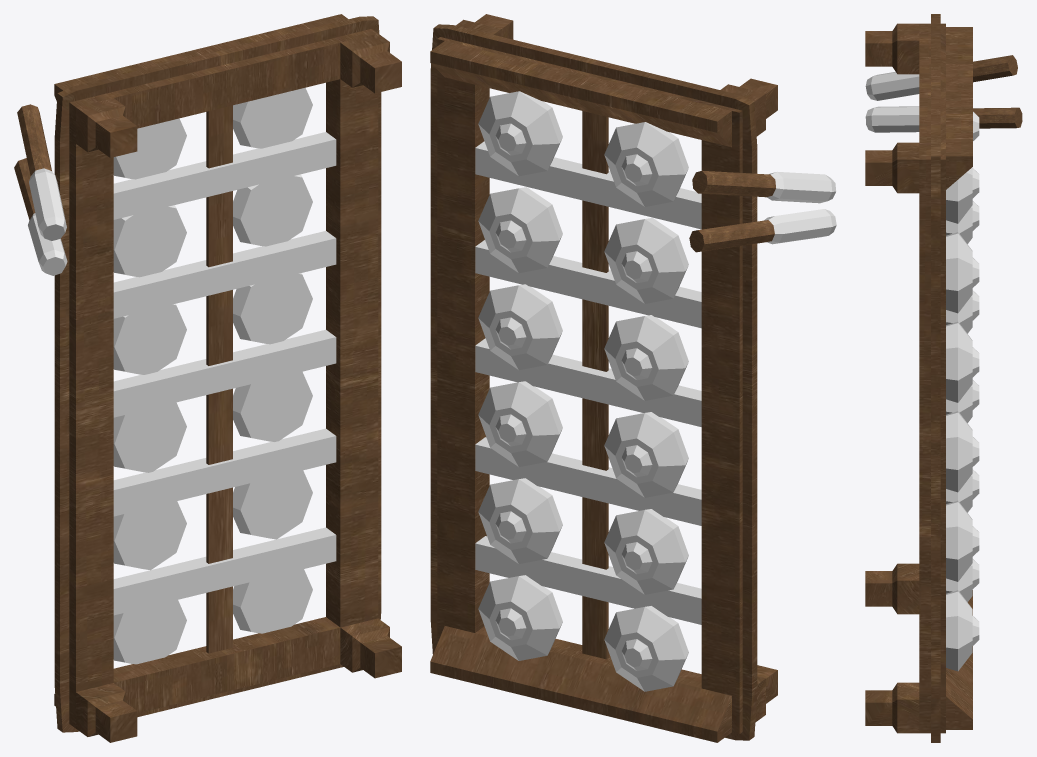
Rendered from Bonang.dae.
3 renders of one model, left to right at view 1: azimuth 30°, elevation 25°; view 2: azimuth 150°, elevation 25°; view 3: azimuth 270°, elevation 25°, orthographic. The views are drawn at different scales.
Parts seen in each view (by area): view 1: Cylinder.002; view 2: Cylinder.002; view 3: Cylinder.002.
Part boxes in pixels (left/top/right/bottom): Cylinder.002: left=14, top=14, right=401, bottom=742; Cylinder.002: left=430, top=14, right=836, bottom=742; Cylinder.002: left=865, top=14, right=1022, bottom=742.
Size of the model in its own units: 1.47 by 0.5846 by 2.43.
